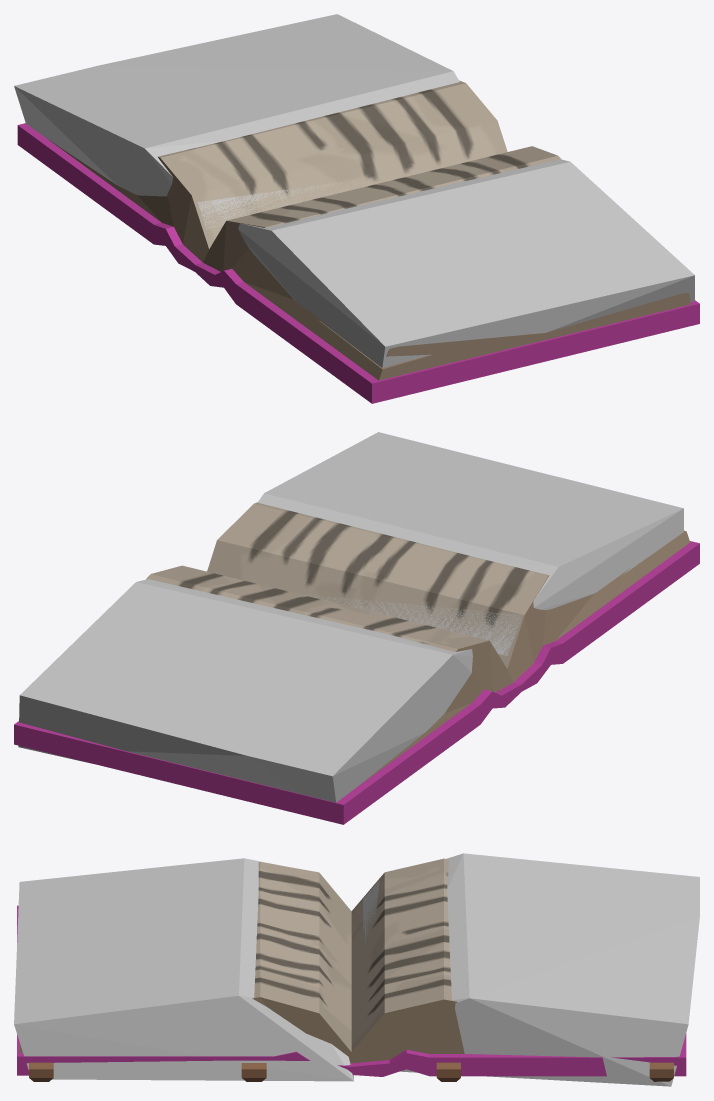
The model's file is SM_Item_Spellbook_Open_02.fbx.
The picture shows the model from 3 angles, top to bottom: view 1: azimuth 30°, elevation 25°; view 2: azimuth 150°, elevation 25°; view 3: azimuth 270°, elevation 25°; orthographic projection. The views are drawn at different scales.
Parts seen in each view (by area): view 1: SM_Item_Spellbook_Open_02_ConvexHulls, SM_Item_Spellbook_Open_02; view 2: SM_Item_Spellbook_Open_02_ConvexHulls, SM_Item_Spellbook_Open_02; view 3: SM_Item_Spellbook_Open_02_ConvexHulls, SM_Item_Spellbook_Open_02.
Part boxes in pixels (box(x1,y1,x2,y2)): SM_Item_Spellbook_Open_02_ConvexHulls: box(14, 14, 694, 367); SM_Item_Spellbook_Open_02: box(17, 80, 699, 403); SM_Item_Spellbook_Open_02_ConvexHulls: box(18, 432, 683, 802); SM_Item_Spellbook_Open_02: box(14, 502, 699, 824); SM_Item_Spellbook_Open_02_ConvexHulls: box(14, 853, 699, 1086); SM_Item_Spellbook_Open_02: box(17, 858, 686, 1081).
Size of the model in its own units: 31.52 by 59.37 by 8.57.
2 materials, 1 textured.
